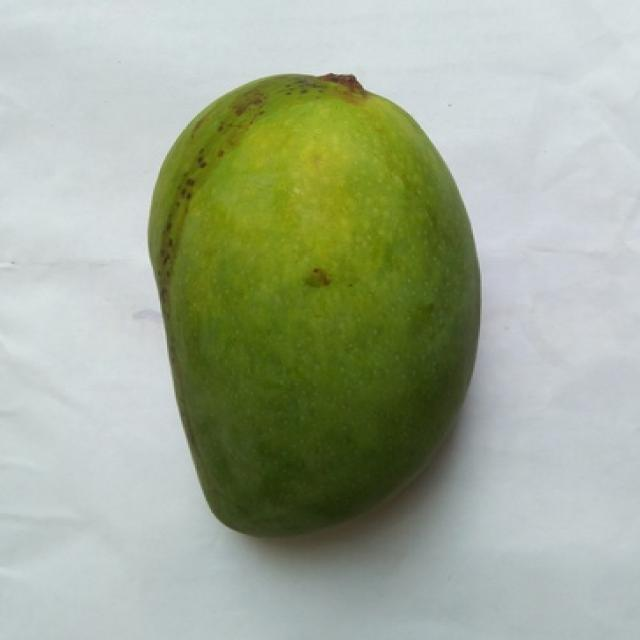Mango: (149, 74, 478, 535)
